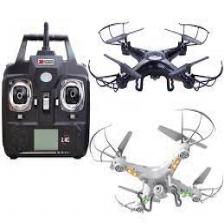drone: (89, 104, 224, 224), (83, 13, 224, 100)
